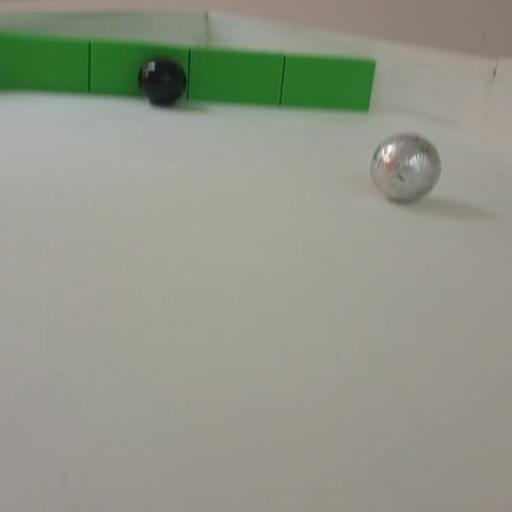alive: (369, 133, 440, 202)
dead: (138, 58, 187, 106)
